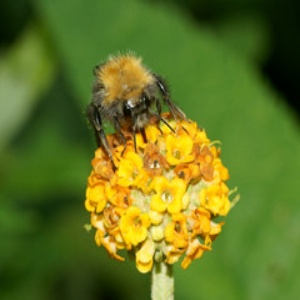bee: (84, 46, 199, 178)
